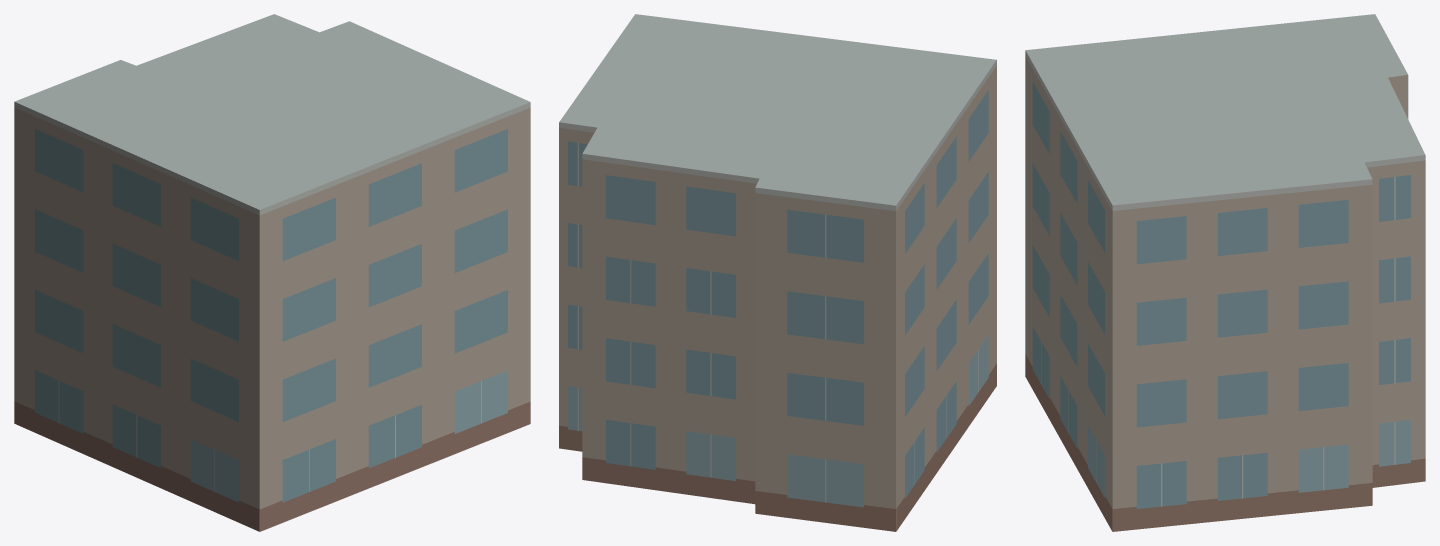
File: survey-upis-32845644.glb
3 renders of one model, left to right at view 1: azimuth 30°, elevation 25°; view 2: azimuth 150°, elevation 25°; view 3: azimuth 270°, elevation 25°, orthographic.
Parts seen in each view (by area): view 1: survey-upis-32845644.tmp; view 2: survey-upis-32845644.tmp; view 3: survey-upis-32845644.tmp.
Boxes of the visible parts, x1,y1,x2,y2 form: survey-upis-32845644.tmp: (14,14,530,531); survey-upis-32845644.tmp: (559,14,996,531); survey-upis-32845644.tmp: (1025,14,1425,531).
Size of the model in its own units: 18.12 by 14.4 by 16.01.
